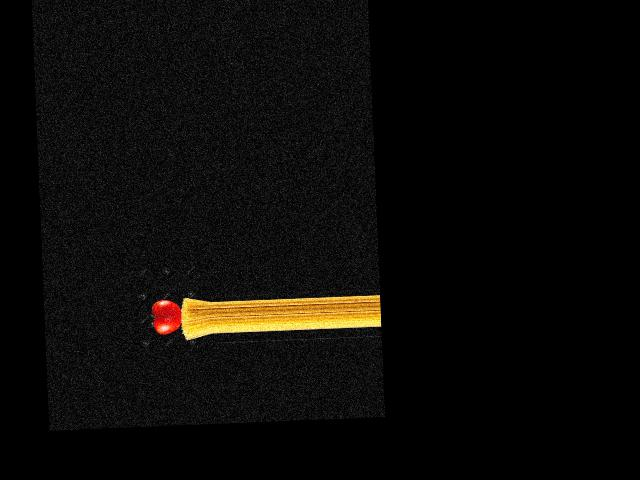tomato: (151, 299, 182, 335)
